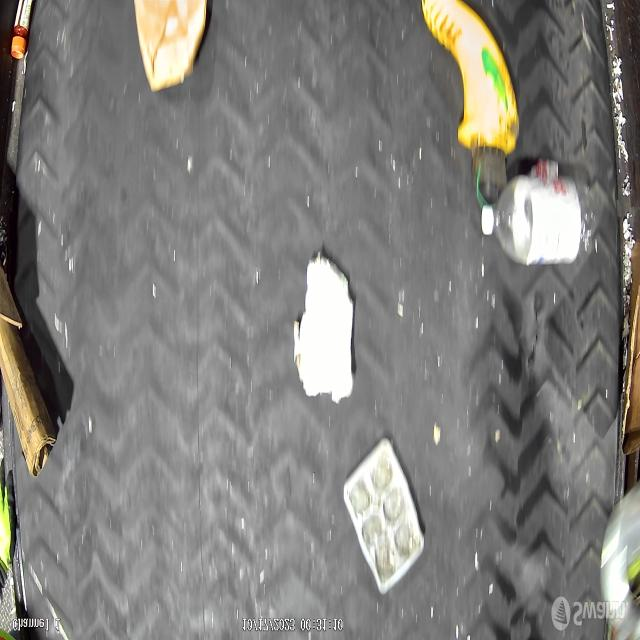plastic_bottle: (484, 165, 590, 266)
